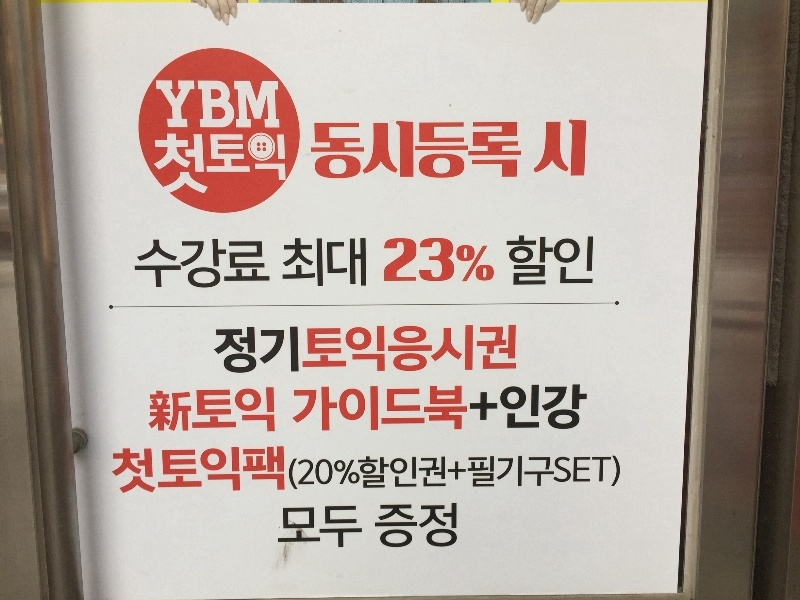text: (161, 133, 176, 201), (177, 133, 192, 201), (193, 133, 208, 201), (209, 133, 224, 201), (225, 133, 240, 201), (241, 133, 256, 201), (257, 133, 272, 201), (321, 121, 336, 180), (337, 121, 352, 180), (353, 121, 368, 180), (369, 121, 384, 180), (385, 121, 400, 180), (401, 121, 416, 180), (417, 121, 432, 180), (433, 121, 448, 180), (449, 121, 464, 180), (465, 121, 480, 180), (481, 121, 496, 180), (497, 121, 512, 180), (273, 133, 286, 201), (545, 119, 560, 177), (561, 119, 576, 177), (145, 240, 160, 292), (161, 240, 176, 292), (177, 240, 192, 292), (193, 240, 208, 292), (209, 240, 224, 292), (225, 240, 240, 292), (241, 240, 256, 292), (513, 121, 526, 180), (481, 236, 497, 283), (513, 235, 528, 285), (529, 235, 544, 285), (545, 235, 560, 285), (561, 235, 576, 285), (577, 235, 592, 285), (289, 238, 304, 288), (305, 238, 320, 288), (321, 238, 336, 288), (337, 238, 352, 288), (353, 238, 368, 288), (225, 324, 240, 374), (241, 324, 256, 374), (257, 324, 272, 374), (273, 324, 288, 374), (289, 324, 304, 374), (305, 324, 320, 374), (321, 324, 336, 374), (337, 324, 352, 374), (353, 324, 368, 374), (369, 324, 384, 374), (385, 324, 400, 374), (401, 324, 416, 374), (417, 324, 432, 374), (433, 324, 448, 374), (449, 324, 464, 374), (465, 324, 480, 374), (481, 324, 496, 374), (497, 324, 512, 374), (113, 445, 128, 495), (129, 445, 144, 495), (145, 445, 160, 495), (161, 445, 176, 495), (177, 445, 192, 495), (193, 445, 208, 495), (209, 445, 224, 495), (225, 445, 240, 495), (241, 445, 256, 495), (257, 445, 272, 495), (161, 80, 176, 129), (177, 80, 192, 129), (193, 80, 208, 129), (209, 80, 224, 129), (225, 80, 240, 129), (241, 80, 256, 129), (257, 80, 272, 129), (161, 385, 176, 434), (177, 385, 192, 434), (193, 385, 208, 434), (209, 385, 224, 434), (225, 385, 240, 434), (241, 385, 256, 434), (257, 385, 272, 434), (513, 383, 528, 432), (529, 383, 544, 432), (545, 383, 560, 432), (561, 383, 576, 432), (257, 240, 271, 292), (305, 384, 320, 432), (321, 384, 336, 432), (337, 384, 352, 432), (353, 384, 368, 432), (369, 384, 384, 432), (385, 384, 400, 432), (401, 384, 416, 432), (417, 384, 432, 432), (433, 384, 448, 432), (449, 384, 464, 432), (385, 236, 400, 283), (401, 236, 416, 283), (417, 236, 432, 283), (433, 236, 448, 283), (449, 236, 464, 283), (465, 236, 480, 283), (385, 502, 400, 549), (401, 502, 416, 549), (417, 502, 432, 549), (433, 502, 448, 549), (498, 383, 512, 432), (289, 505, 304, 549), (305, 505, 320, 549), (321, 505, 336, 549), (337, 505, 352, 549), (577, 119, 588, 177), (147, 385, 160, 434), (132, 240, 144, 292), (291, 384, 304, 432), (151, 133, 160, 201), (273, 445, 285, 495), (310, 121, 320, 180), (289, 454, 304, 491), (305, 454, 320, 491), (321, 454, 336, 491), (337, 454, 352, 491), (353, 454, 368, 491), (369, 454, 384, 491), (385, 454, 400, 491), (401, 454, 416, 491), (417, 454, 432, 491), (433, 454, 448, 491), (449, 454, 464, 491), (465, 454, 480, 491), (481, 454, 496, 491), (497, 454, 512, 491), (513, 454, 528, 491), (529, 454, 544, 491), (545, 454, 560, 491), (561, 454, 576, 491), (577, 454, 592, 491), (593, 454, 608, 491), (353, 505, 365, 549), (373, 502, 384, 549), (214, 324, 224, 374), (577, 383, 587, 432), (449, 502, 459, 549), (481, 392, 496, 423), (609, 454, 621, 491), (273, 80, 281, 129), (505, 235, 512, 285), (469, 392, 480, 423), (282, 238, 288, 288), (106, 445, 112, 495), (154, 80, 160, 129), (465, 384, 471, 432), (283, 505, 288, 549), (513, 324, 517, 374), (273, 385, 275, 434), (497, 392, 499, 423), (593, 235, 594, 285)
